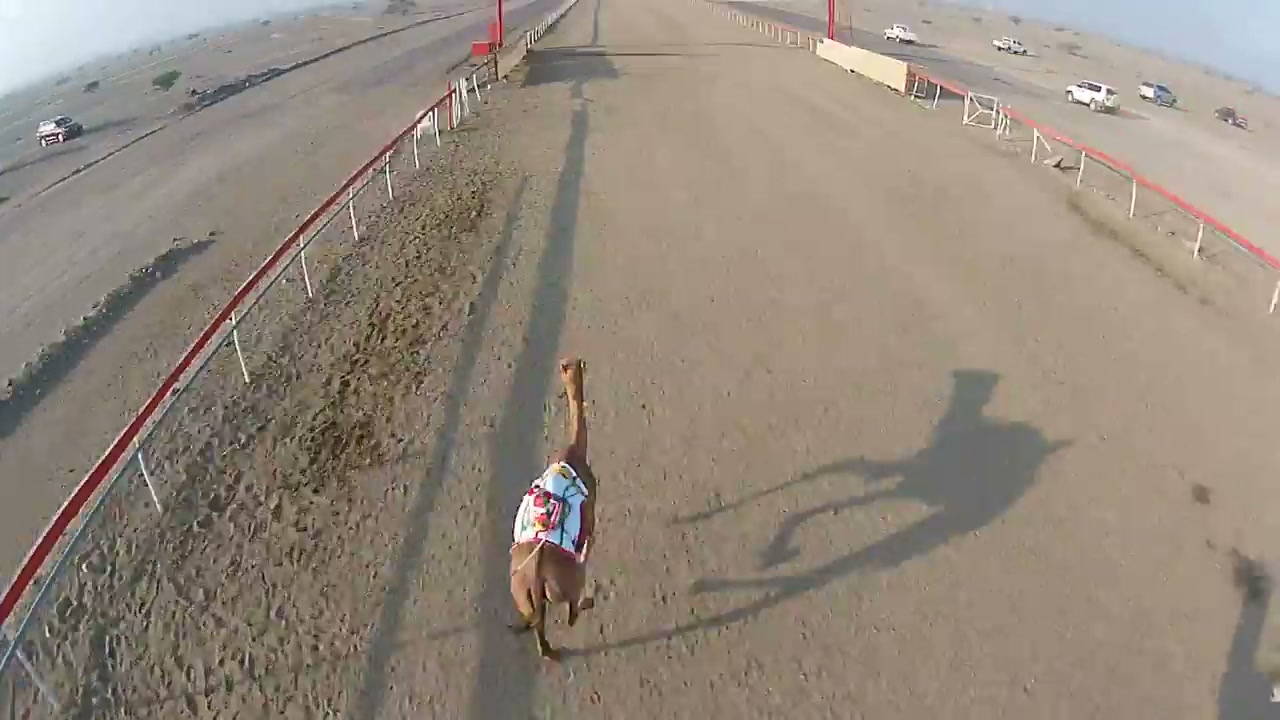animal_foot_print: (560, 529, 704, 719)
